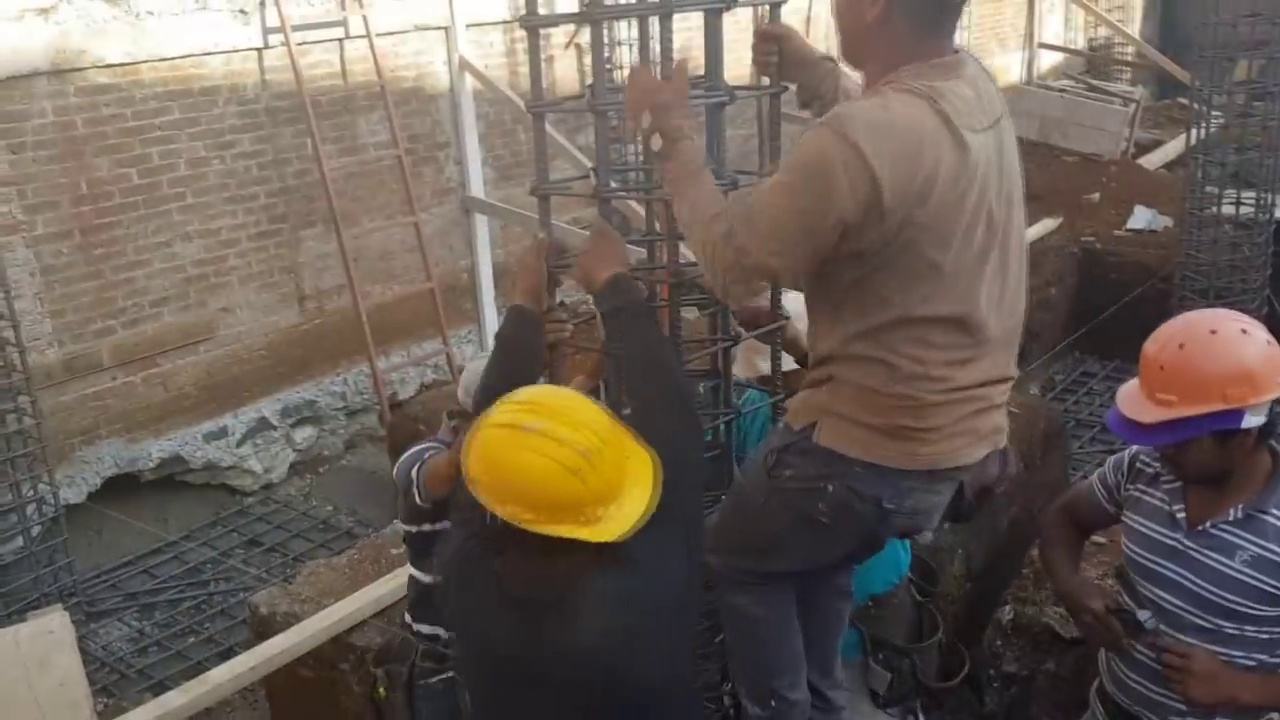helmet: (470, 391, 652, 559), (1123, 310, 1280, 447)
helmet-off: (730, 278, 812, 404)
helmet-on: (471, 380, 652, 617), (1115, 314, 1280, 537)
person: (634, 1, 1032, 711), (369, 289, 717, 706), (1021, 296, 1280, 720), (717, 274, 915, 671), (386, 356, 500, 664), (575, 229, 698, 492)
